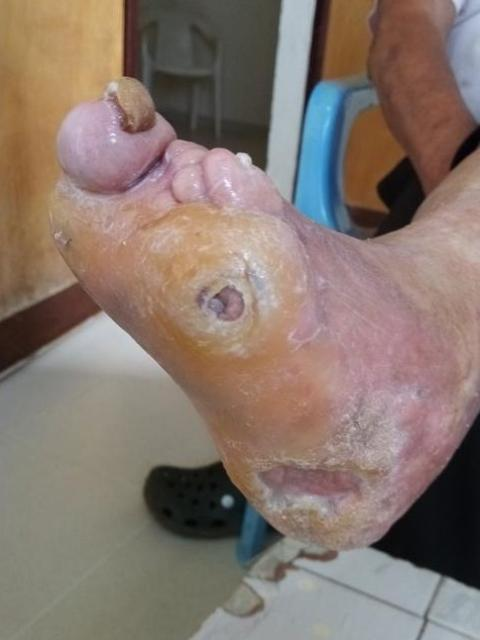wound: (254, 461, 368, 524), (195, 276, 248, 325)
